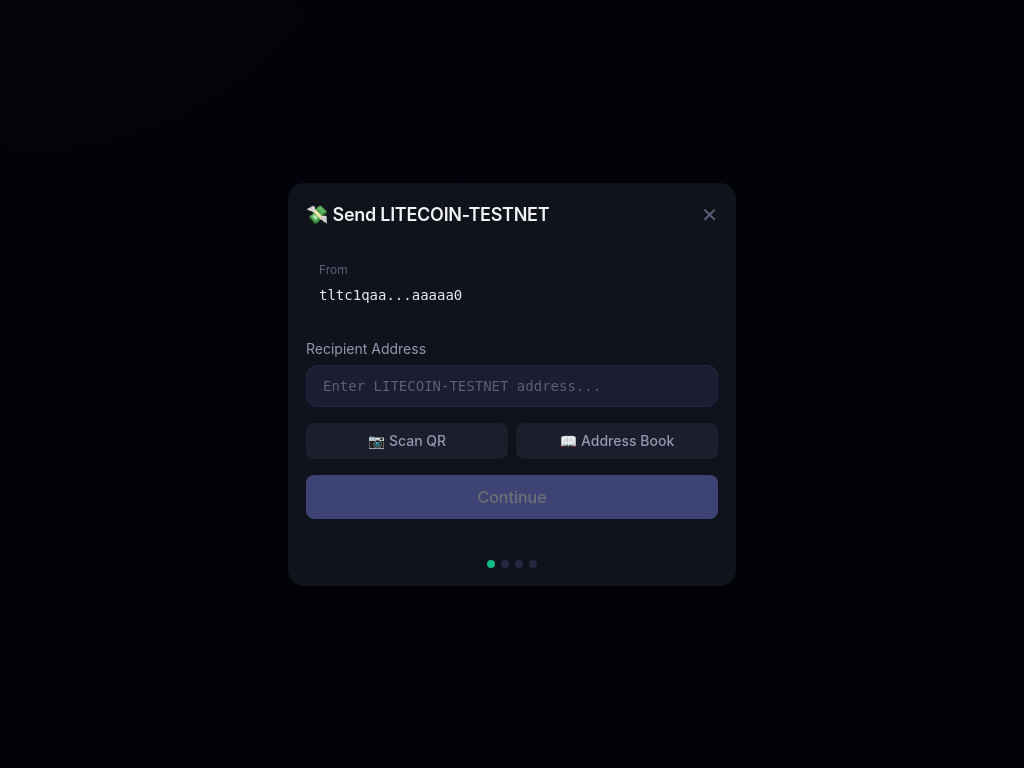
Test: Send.svelte › shows error for zero amount in handleAmountInput
The width and height of the screenshot is (1024, 768).
In the field with placeholder "Enter LITECOIN-TESTNET address...": coordinates (512, 386) [306, 364, 718, 406], type "tltc1qvalidadr"
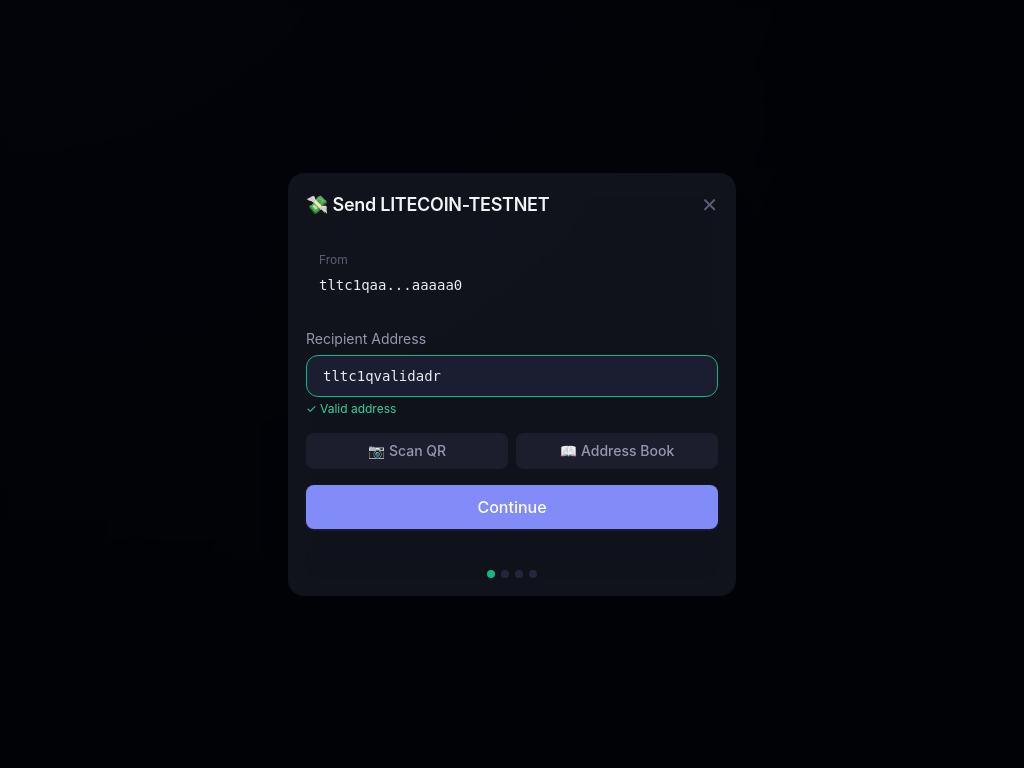
Click the button "Continue": coordinates (512, 506) [306, 484, 718, 528]
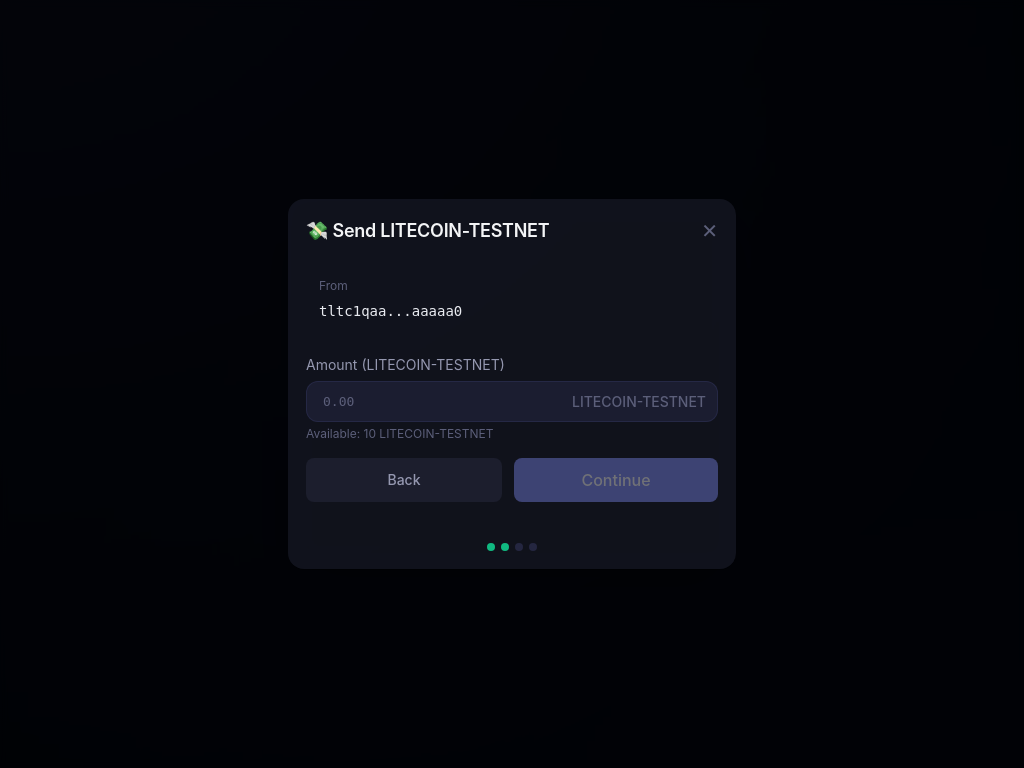
In the number field with placeholder "0.00": coordinates (512, 402) [306, 381, 718, 422], type "0"
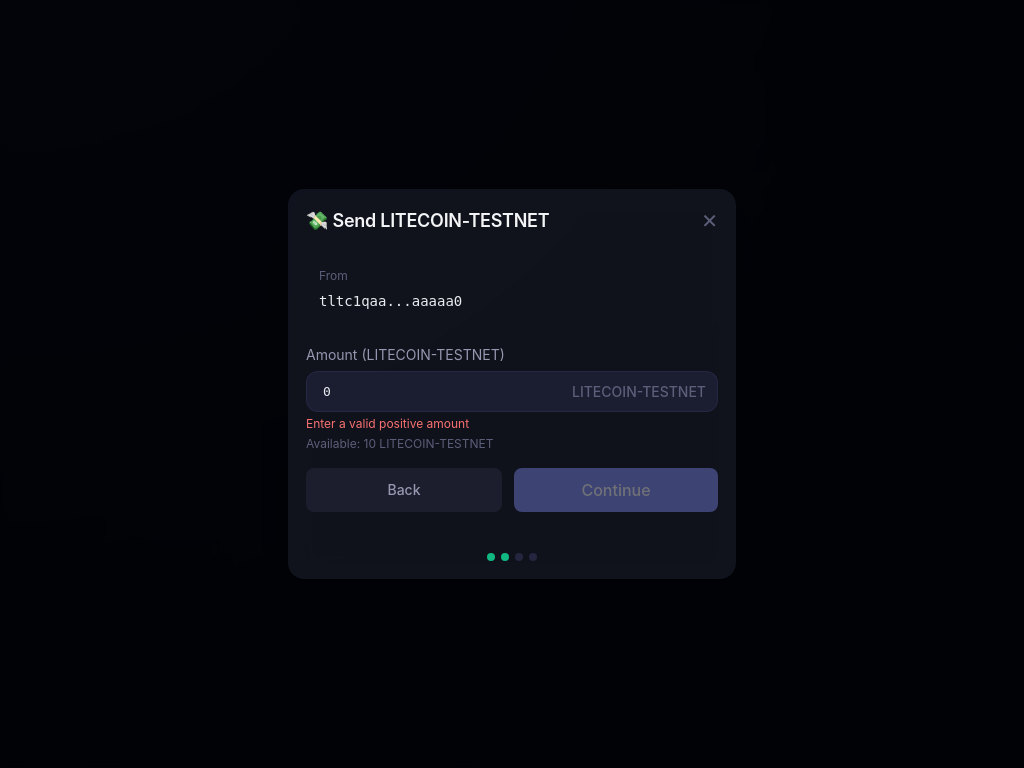
Expected: the text "Enter a valid positive amount" is shown, [306, 416, 469, 431]
